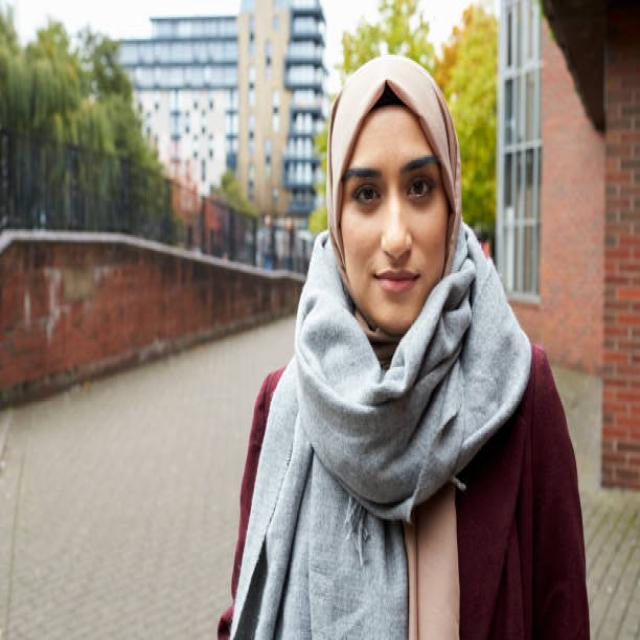mobile_phonerotation: (216, 52, 591, 637)
